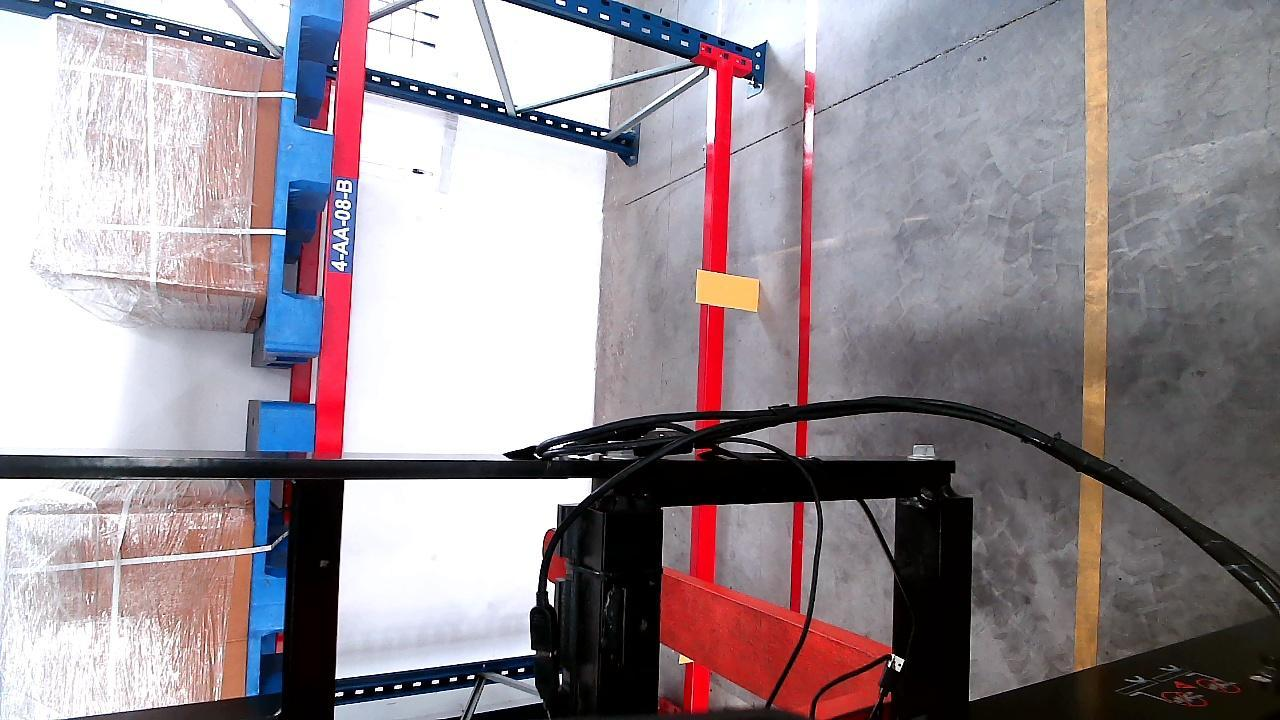red_line: (789, 0, 816, 611)
yellow_line: (1077, 0, 1104, 667)
